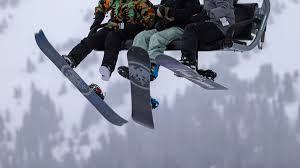snowboard: (33, 29, 128, 129), (152, 54, 228, 93), (126, 47, 156, 131)
